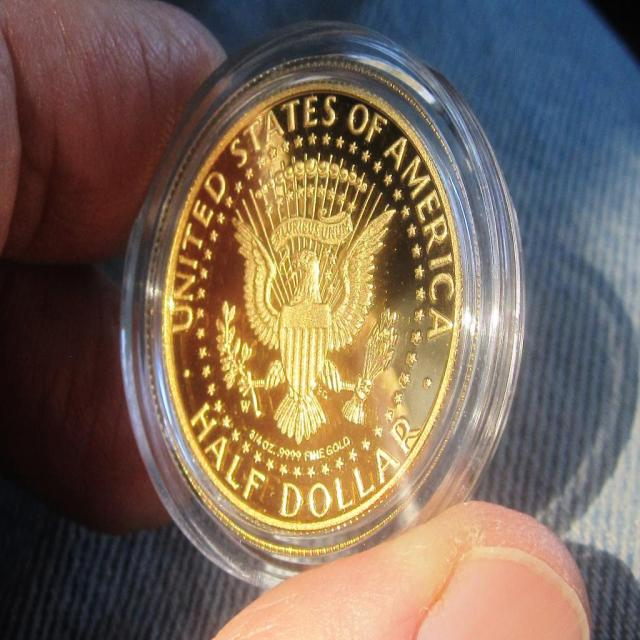Coin: (158, 77, 466, 535)
